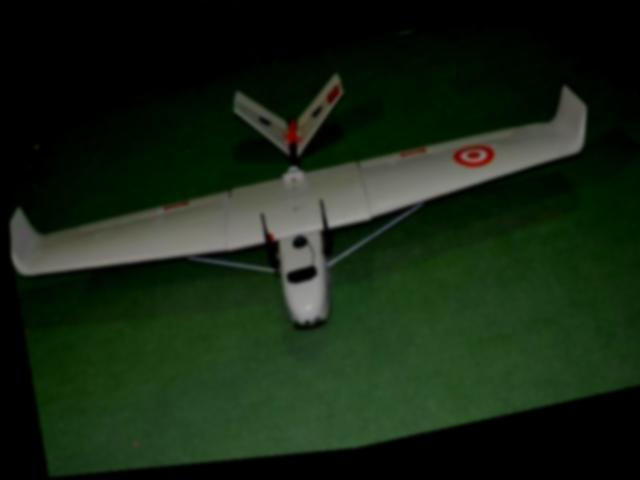iha: (2, 19, 622, 397)
